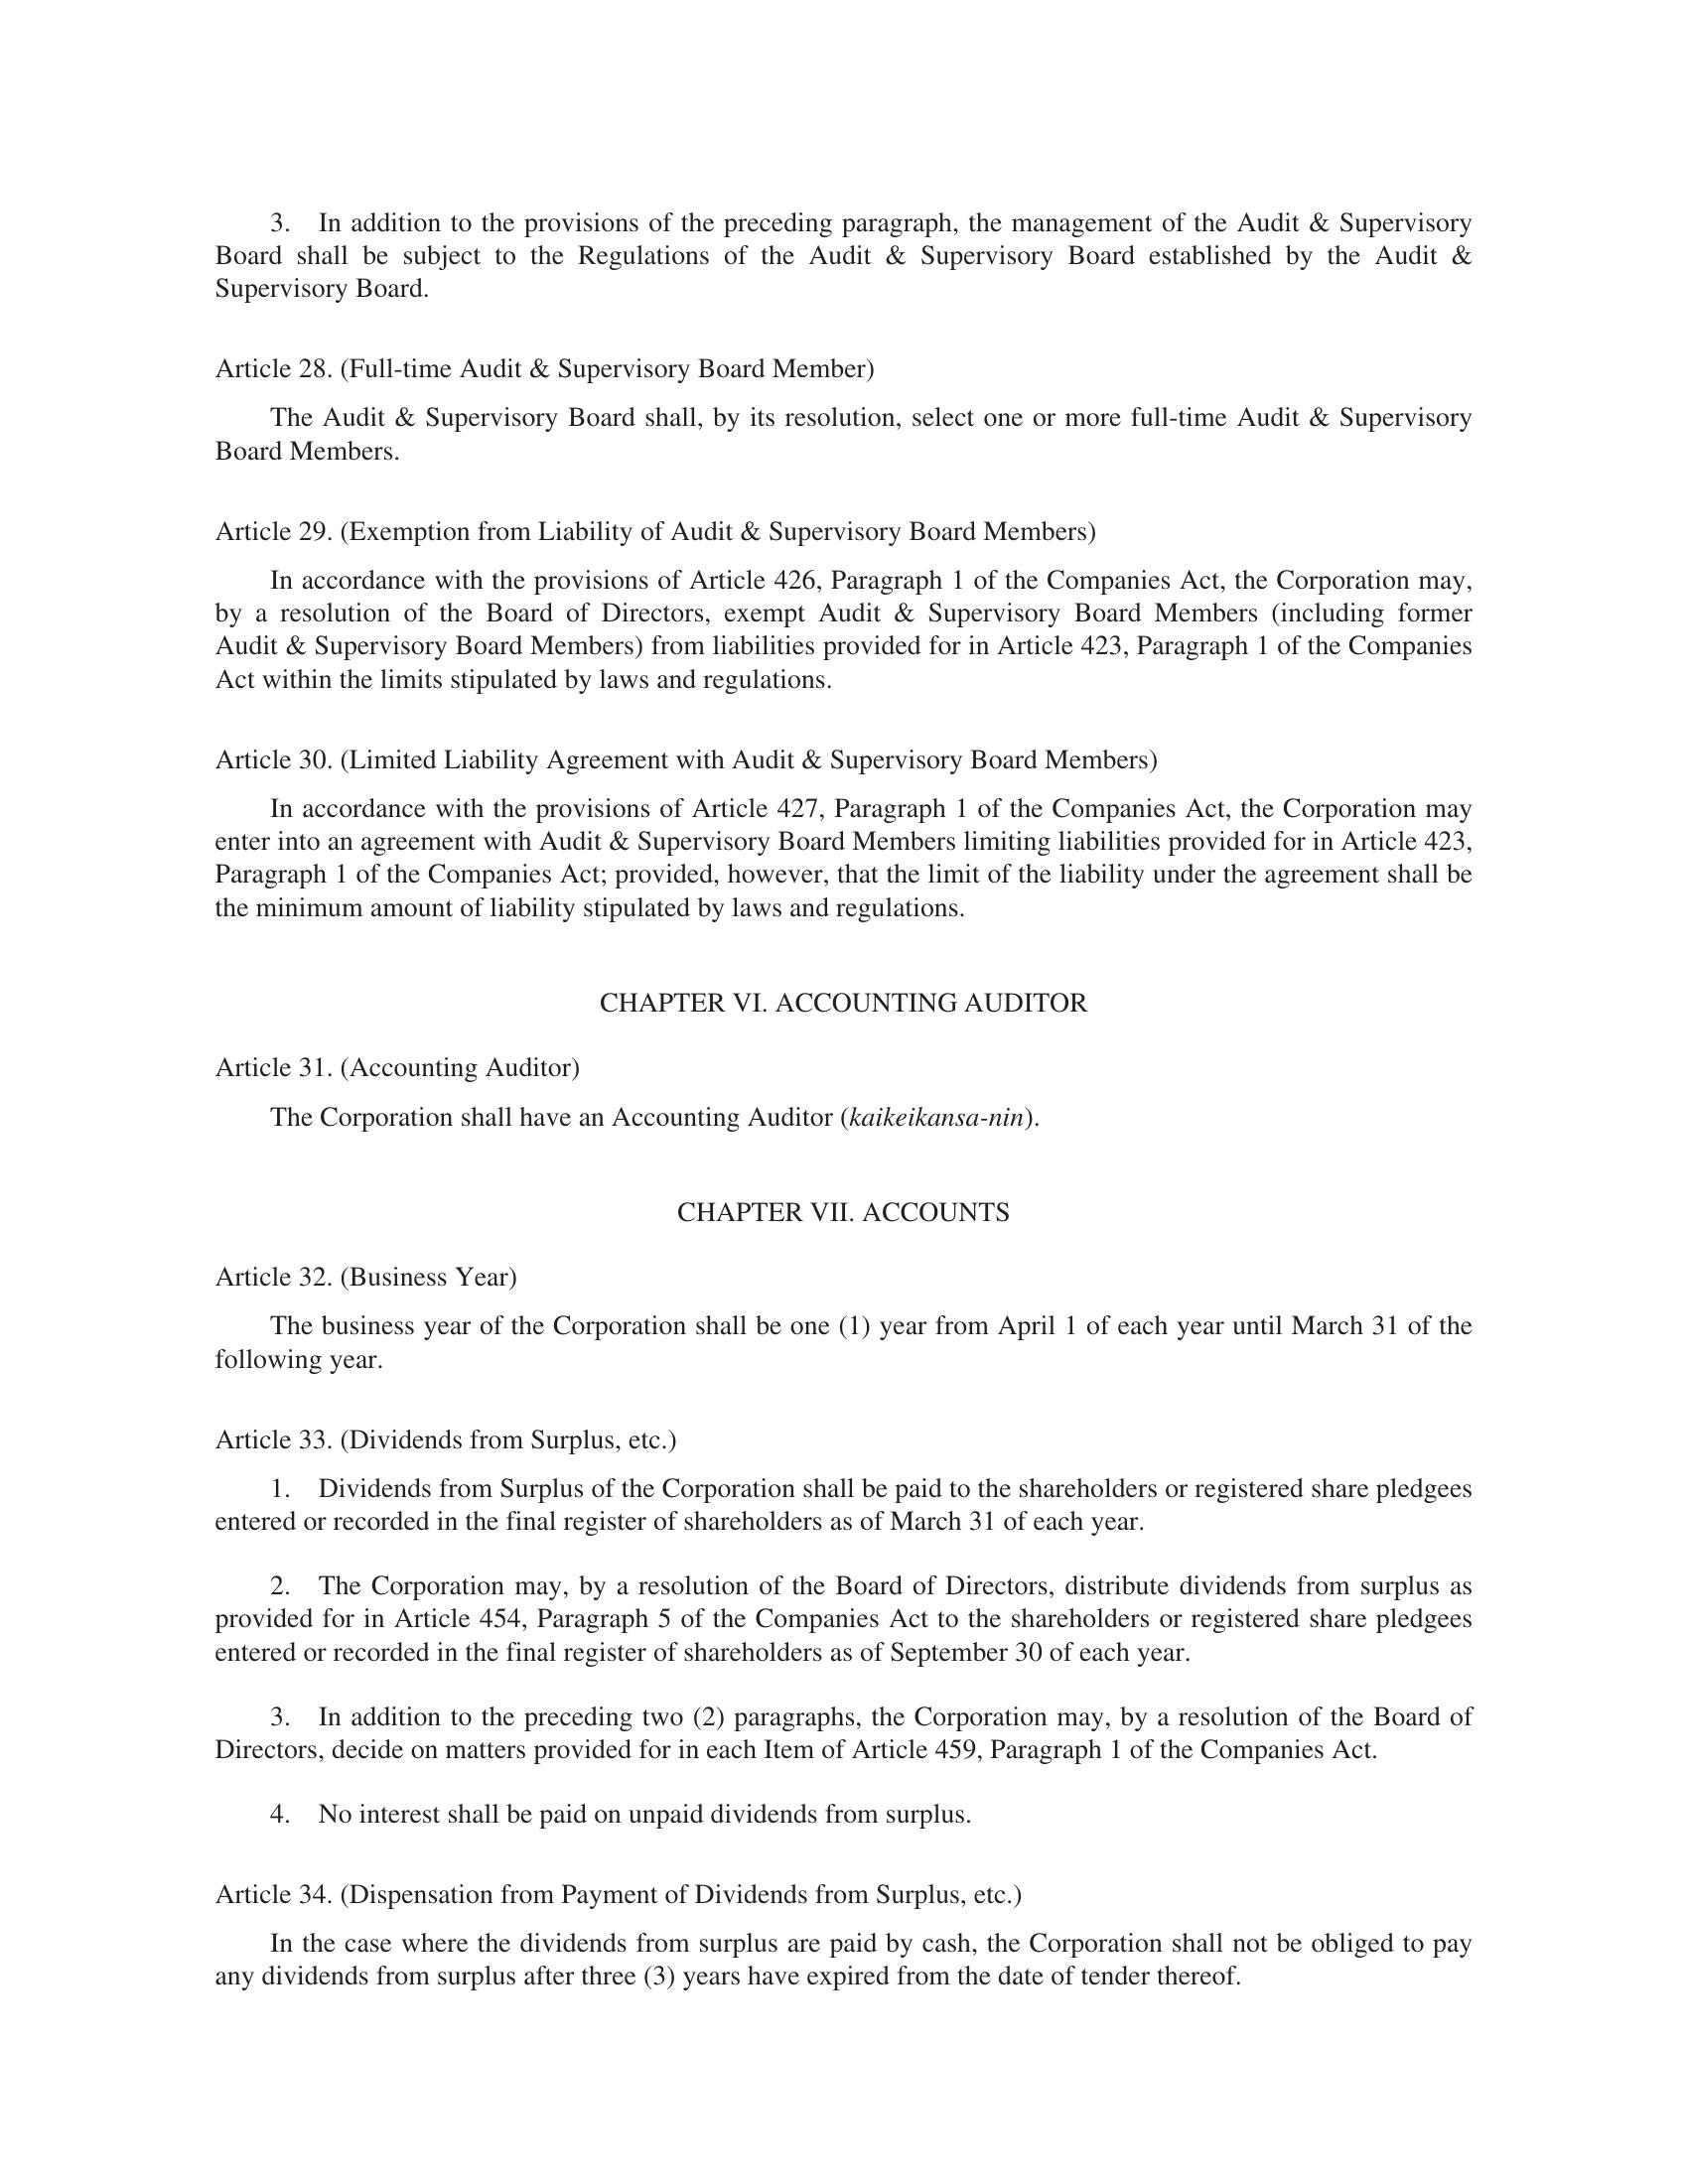Footer: (0, 2026, 1688, 2184)
Header: (0, 0, 1688, 179)
